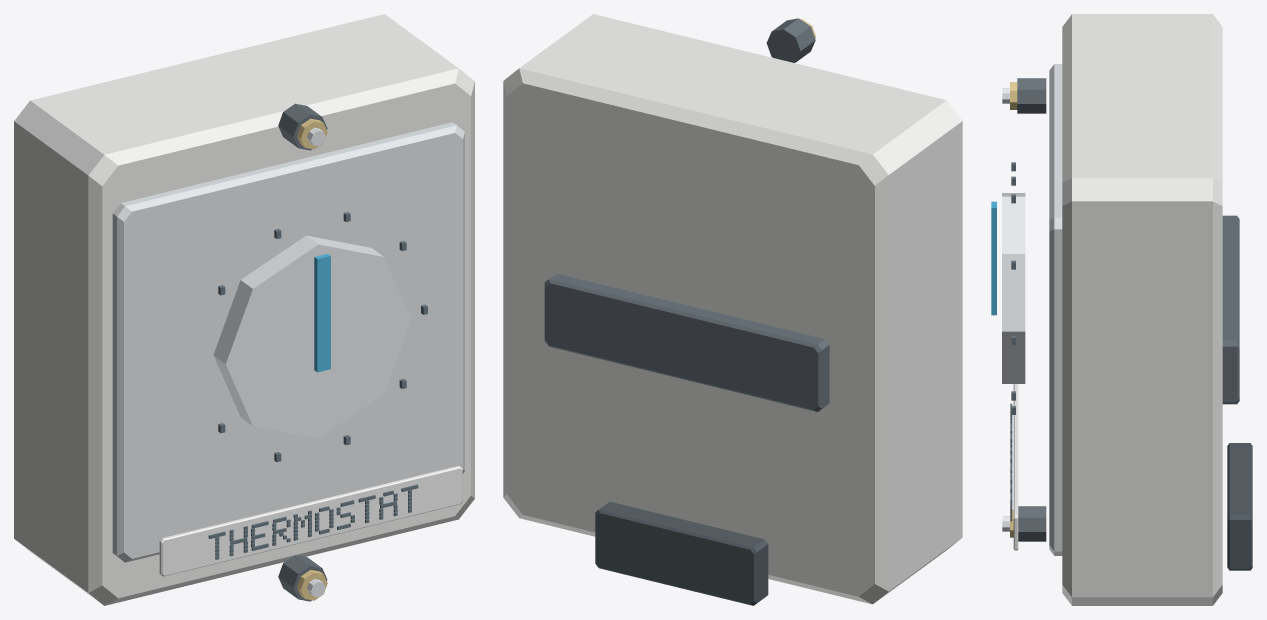
Rendered from thermostat.glb.
The picture shows the model from 3 angles, left to right: view 1: azimuth 30°, elevation 25°; view 2: azimuth 150°, elevation 25°; view 3: azimuth 270°, elevation 25°; orthographic projection. The views are drawn at different scales.
Visible parts, largest first — view 1: thermostat-board; view 2: thermostat-board; view 3: thermostat-board.
Boxes of the visible parts, left/top/right/bottom form: thermostat-board: left=14, top=14, right=474, bottom=605; thermostat-board: left=503, top=14, right=962, bottom=605; thermostat-board: left=991, top=14, right=1252, bottom=605.
Bounding box in the file's own units: 2.17 × 2.61 × 1.34.
